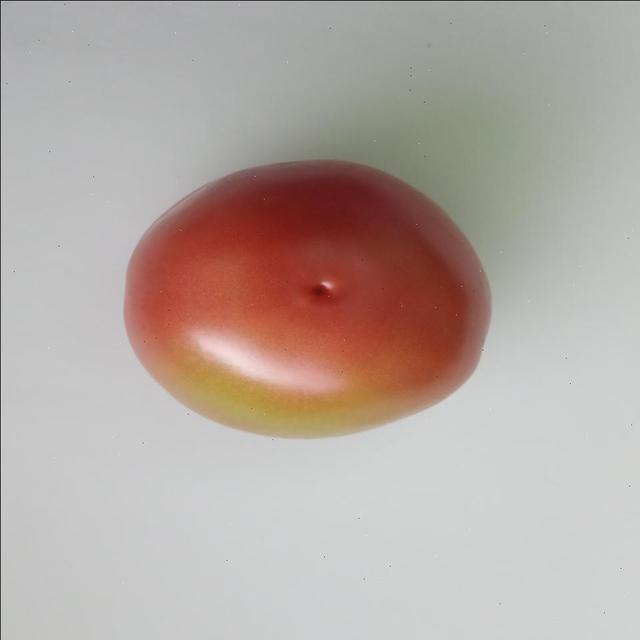Healthy Fruit: (78, 103, 336, 296)
